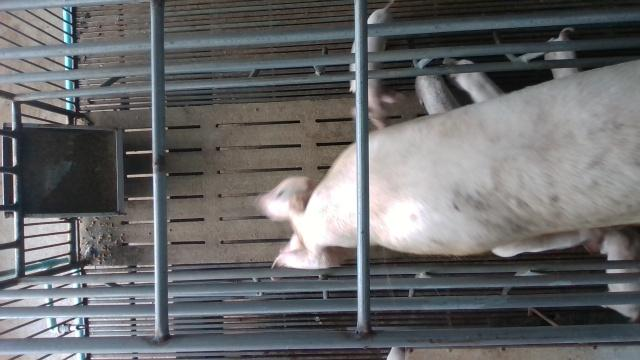piglet: (349, 1, 402, 129), (599, 228, 640, 321), (443, 58, 505, 104), (415, 68, 460, 114), (544, 28, 580, 79)
sow-stand: (257, 59, 640, 280)
